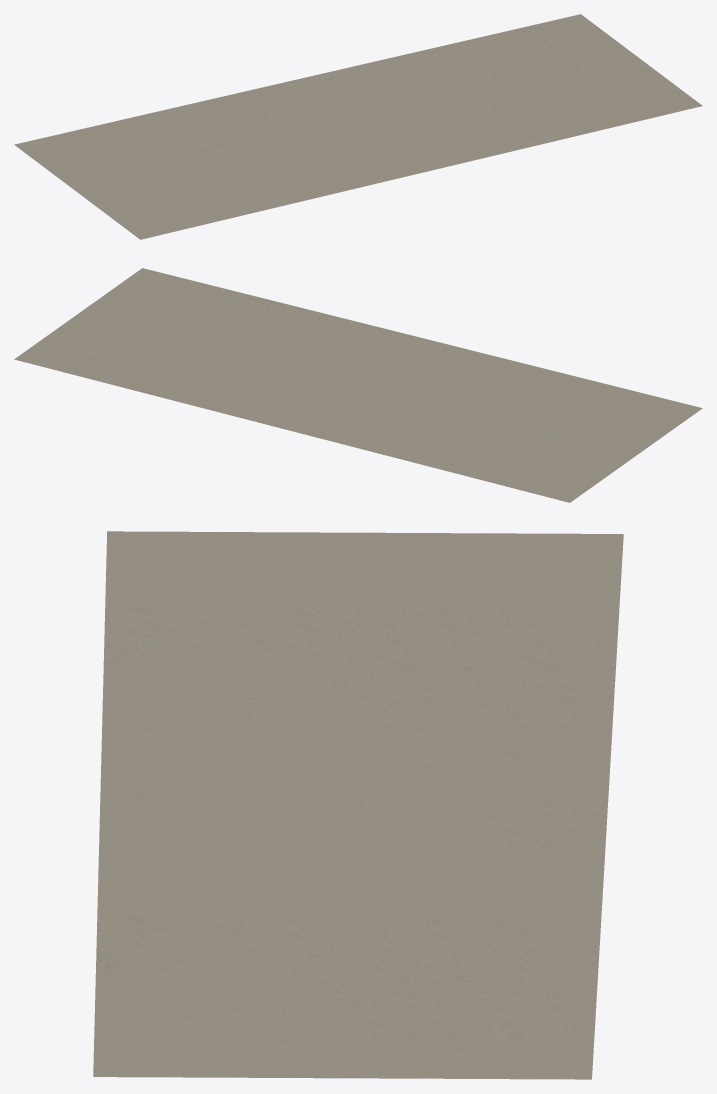
File: SM_GCG_Sand_02.fbx
The picture shows the model from 3 angles, top to bottom: view 1: azimuth 30°, elevation 25°; view 2: azimuth 150°, elevation 25°; view 3: azimuth 270°, elevation 25°; orthographic projection. The views are drawn at different scales.
Parts seen in each view (by area): view 1: SM_GCG_Sand_02; view 2: SM_GCG_Sand_02; view 3: SM_GCG_Sand_02.
Part boxes in pixels (x1,y1,x2,y2): SM_GCG_Sand_02: [14, 14, 702, 239]; SM_GCG_Sand_02: [14, 268, 702, 502]; SM_GCG_Sand_02: [93, 531, 623, 1079].
Size of the model in its own units: 405 by 166 by 4.93e-06.
1 material, 1 textured.
